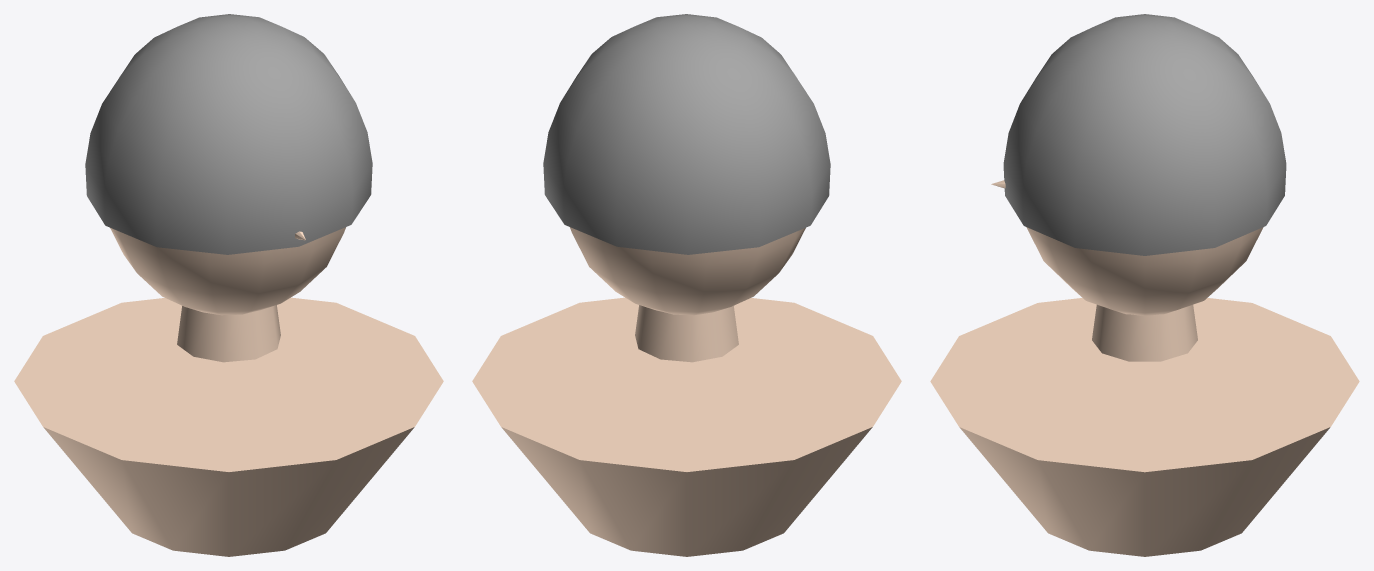
Rendered from portrait03t_001.glb.
The picture shows the model from 3 angles, left to right: view 1: azimuth 30°, elevation 25°; view 2: azimuth 150°, elevation 25°; view 3: azimuth 270°, elevation 25°; orthographic projection.
Size of the model in its own units: 1.7 by 2.11 by 1.7.
